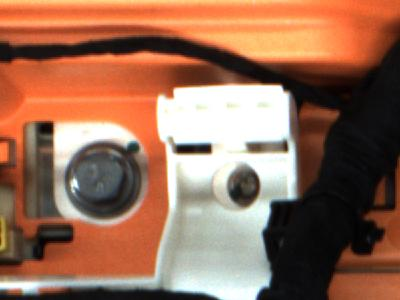nut_b: (63, 138, 140, 220)
